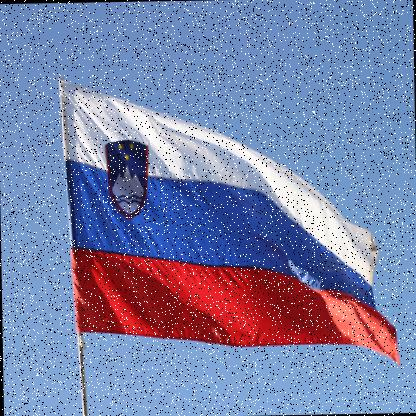si: (58, 71, 406, 375)
